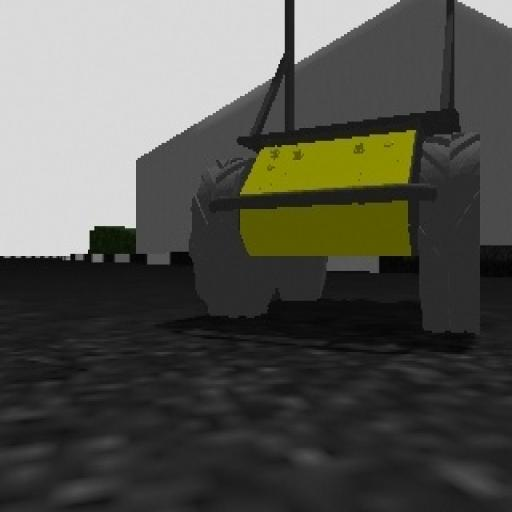huskya200: (193, 2, 485, 363)
